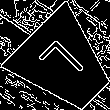L_SE: (36, 36, 93, 93)
